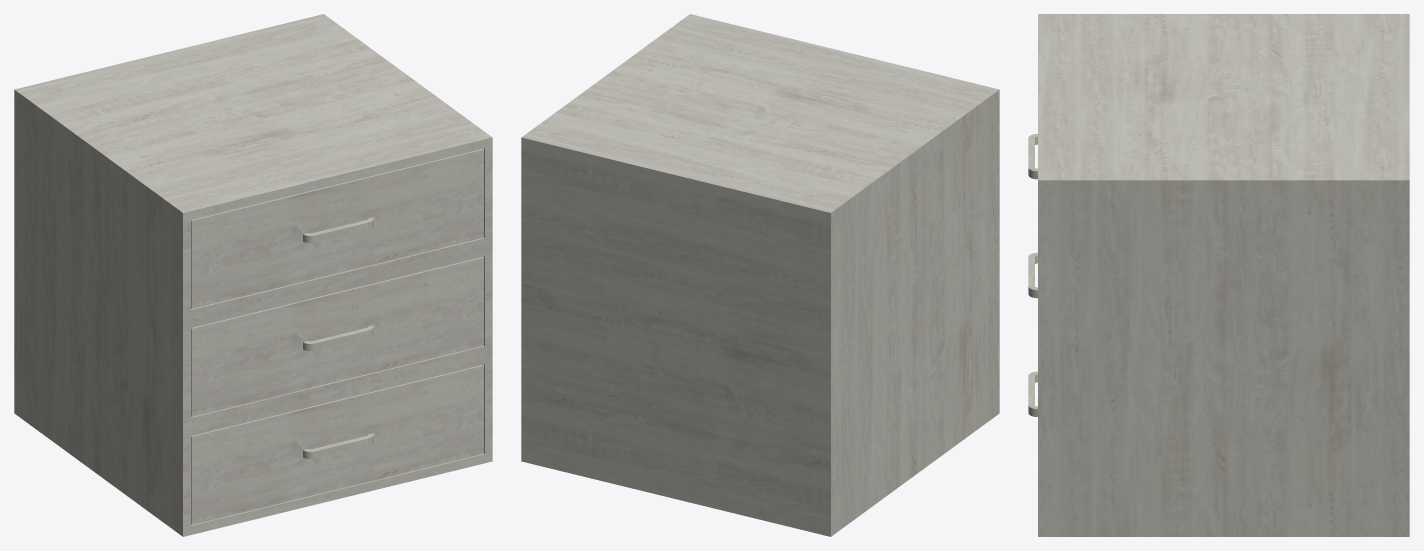
The model's file is nightstand.obj.
3 renders of one model, left to right at view 1: azimuth 30°, elevation 25°; view 2: azimuth 150°, elevation 25°; view 3: azimuth 270°, elevation 25°, orthographic. The views are drawn at different scales.
Parts seen in each view (by area): view 1: nightstand, latch_3, latch_1, latch_2; view 2: nightstand; view 3: nightstand.
Part boxes in pixels (left/top/right/bottom): nightstand: left=14, top=14, right=492, bottom=536; latch_3: left=191, top=365, right=483, bottom=524; latch_1: left=191, top=149, right=483, bottom=308; latch_2: left=191, top=257, right=483, bottom=416; nightstand: left=521, top=14, right=999, bottom=536; nightstand: left=1038, top=14, right=1409, bottom=536.
Size of the model in its own units: 0.9 by 0.9 by 0.8716.
Materials: 1 (1 with a texture image).
